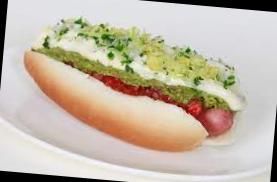Completos: (18, 4, 249, 156)
